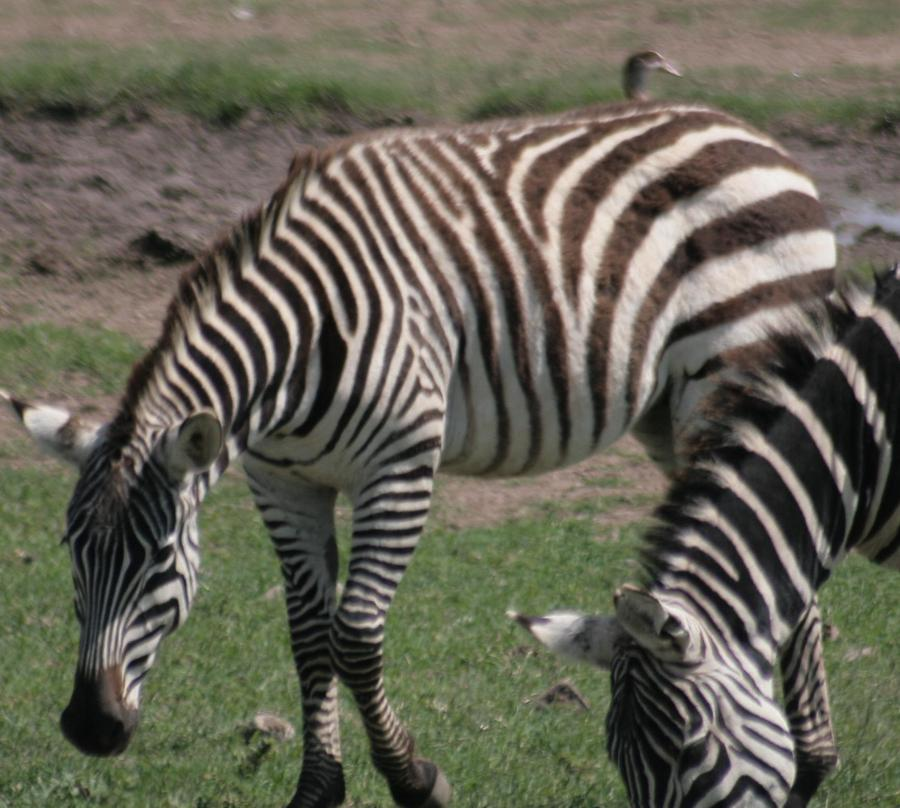zebra_plains: (252, 121, 786, 474)
